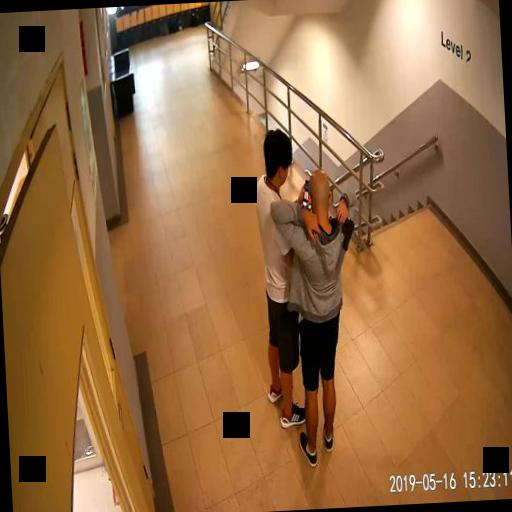Handgun: (338, 210, 354, 250)
